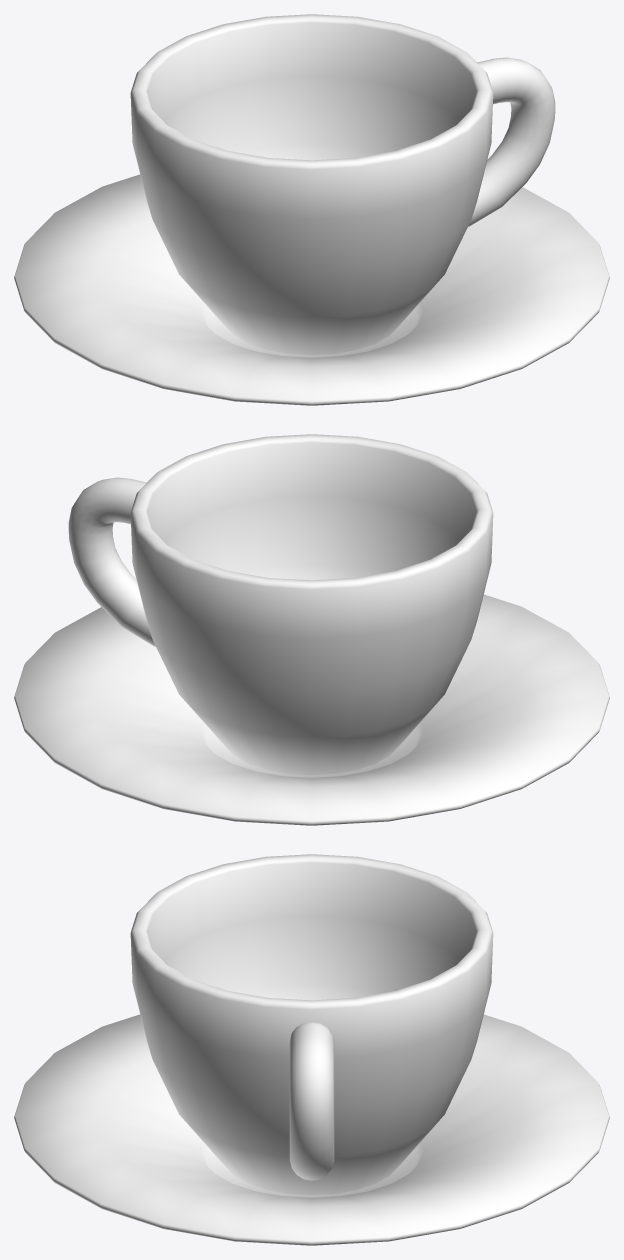
File: EmptyTeaCup.fbx
3 views of the same model, one above another, from view 1: azimuth 30°, elevation 25°; view 2: azimuth 150°, elevation 25°; view 3: azimuth 270°, elevation 25° (orthographic).
Parts seen in each view (by area): view 1: Circle.001; view 2: Circle.001; view 3: Circle.001.
Part boxes in pixels (x1,y1,x2,y2): Circle.001: [14, 14, 609, 405]; Circle.001: [14, 434, 609, 825]; Circle.001: [14, 854, 609, 1245].
Bounding box in the file's own units: 466 × 205 × 466.
